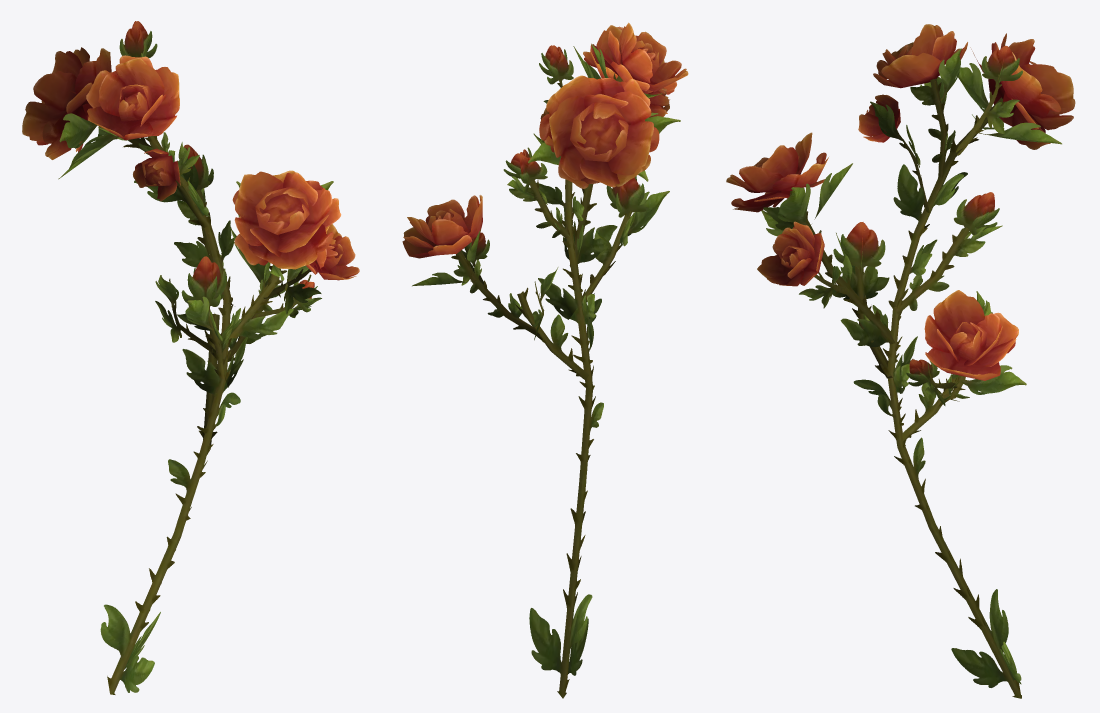
3 renders of one model, left to right at view 1: azimuth 30°, elevation 25°; view 2: azimuth 150°, elevation 25°; view 3: azimuth 270°, elevation 25°, orthographic. The views are drawn at different scales.
Size of the model in its own units: 0.9611 by 2.19 by 1.05.
1 material, 1 textured.
